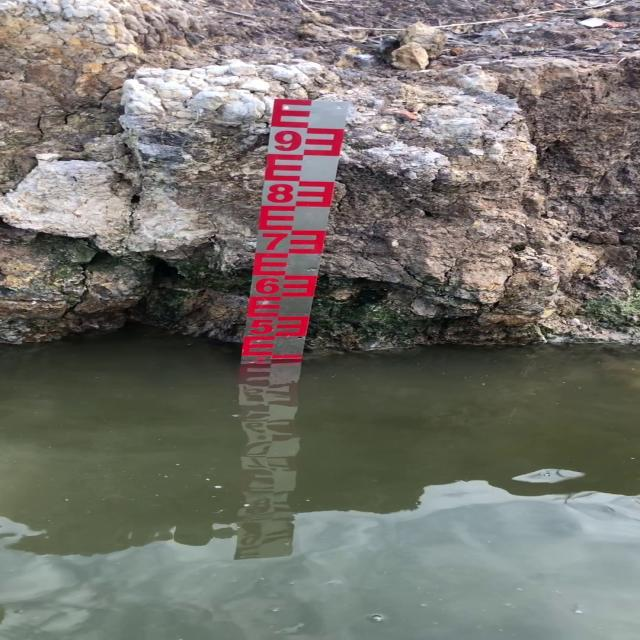ruler: (227, 91, 365, 380)
value: (268, 125, 306, 156), (263, 178, 299, 207), (259, 229, 292, 256), (252, 273, 285, 297), (245, 314, 276, 338)
